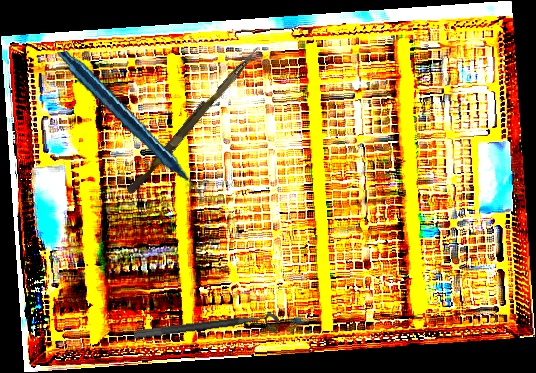Fixation Ring: (133, 312, 281, 351)
Handpiece: (55, 34, 206, 222)
Pusher: (125, 40, 262, 199)
